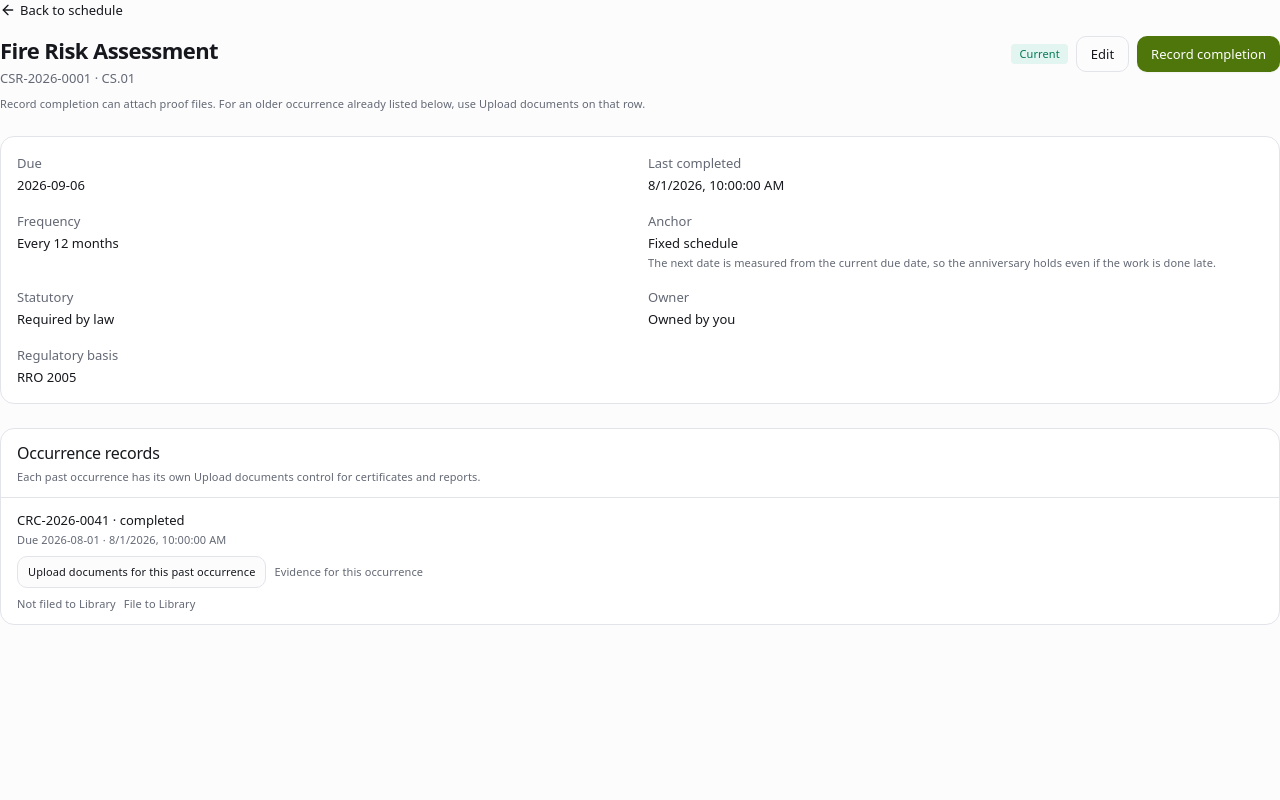
Scenario: ComplianceScheduleDetail: evidence attaches to an occurrence, not the obligation › does not fetch evidence until the occurrence is opened
This screenshot has width=1280, height=800.
Expected: the element with test id "compliance-schedule-record-evidence-41" is shown, [17,556,423,588]
Click the button with test id "compliance-schedule-record-evidence-toggle-41". click: {"x": 349, "y": 572}
box: [274,564,423,580]
(page scrolled)
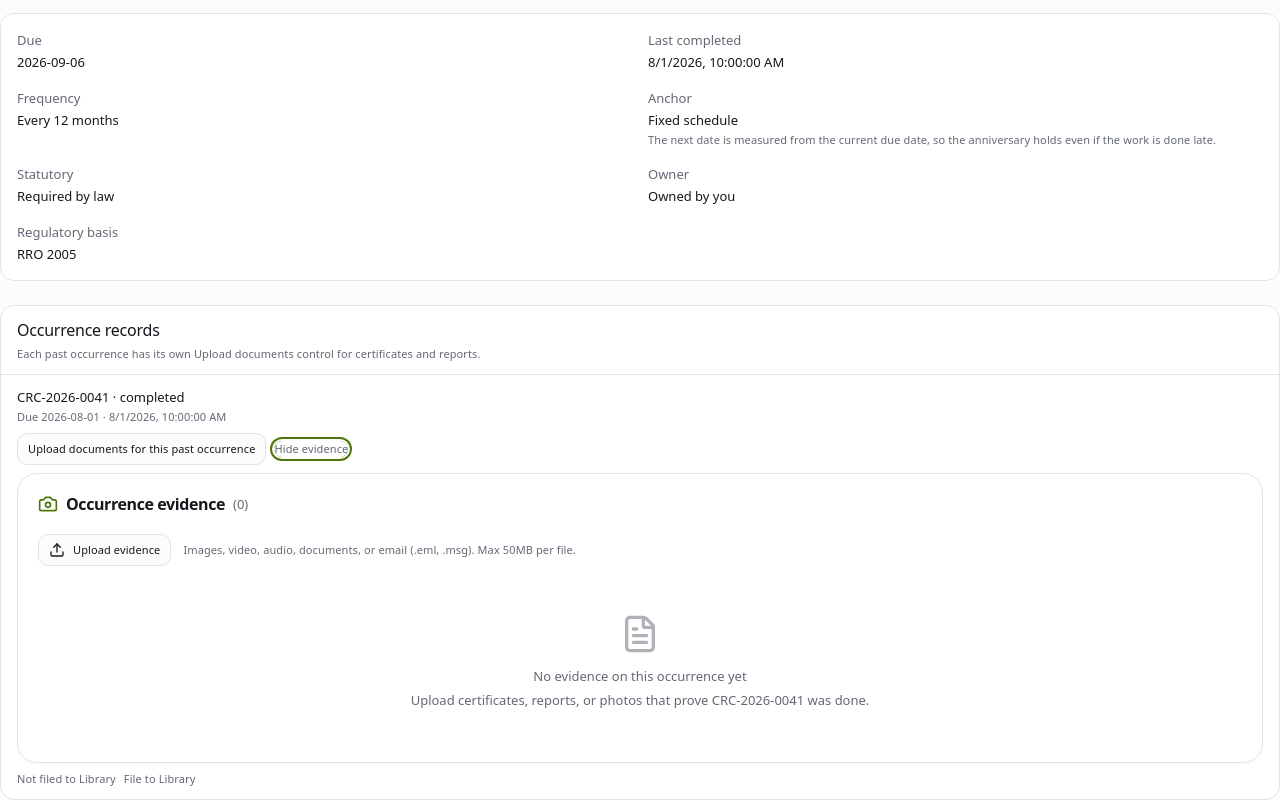
Expected: the element with test id "compliance-record-41-evidence-panel" is shown, [17,473,1263,763]
